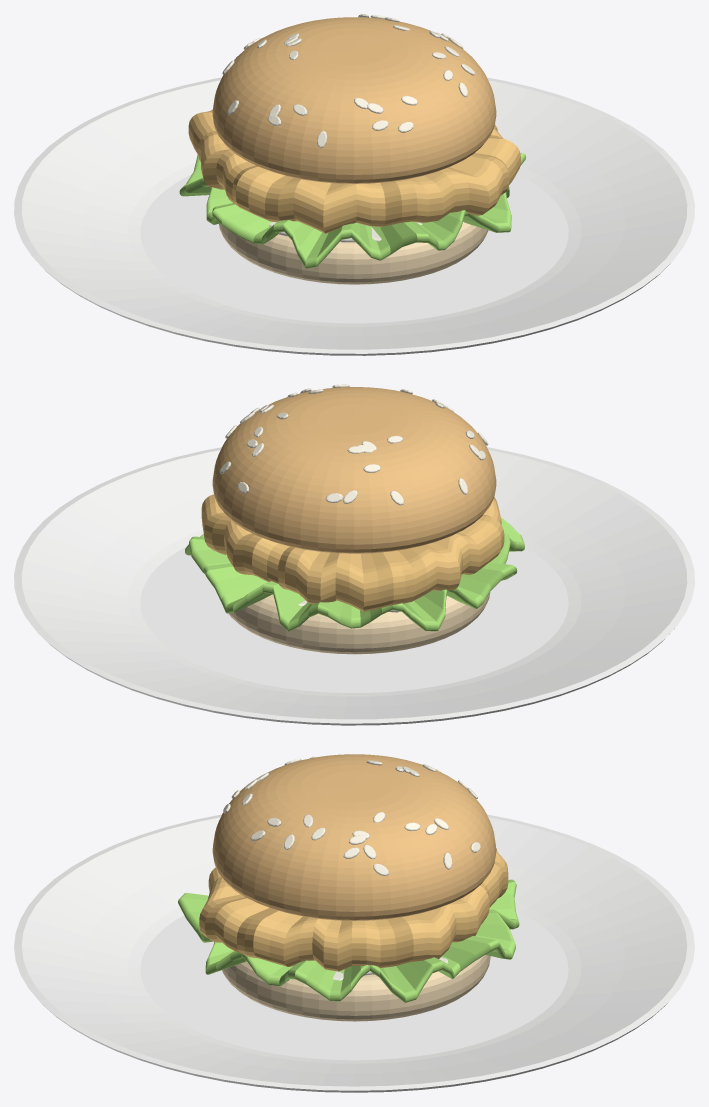
File: crispy_chicken.glb
The picture shows the model from 3 angles, top to bottom: view 1: azimuth 30°, elevation 25°; view 2: azimuth 150°, elevation 25°; view 3: azimuth 270°, elevation 25°; orthographic projection.
Visible parts, largest first — view 1: plate, bun_top_0_0, chicken_0_0, lettuce_0_0, bun_bottom_0_0, bun_top_0_1; view 2: plate, bun_top_0_0, chicken_0_0, lettuce_0_0, bun_bottom_0_0, bun_top_0_1; view 3: plate, bun_top_0_0, chicken_0_0, lettuce_0_0, bun_bottom_0_0, bun_top_0_1.
Boxes of the visible parts, <box> form: plate: <box>14,77,694,355</box>; bun_top_0_0: <box>212,17,496,183</box>; chicken_0_0: <box>188,109,520,233</box>; lettuce_0_0: <box>179,153,525,268</box>; bun_bottom_0_0: <box>219,222,488,284</box>; bun_top_0_1: <box>222,14,475,148</box>; plate: <box>14,447,694,725</box>; bun_top_0_0: <box>212,387,496,553</box>; chicken_0_0: <box>201,494,504,611</box>; lettuce_0_0: <box>185,517,524,631</box>; bun_bottom_0_0: <box>228,592,490,654</box>; bun_top_0_1: <box>219,384,488,505</box>; plate: <box>14,814,694,1092</box>; bun_top_0_0: <box>212,754,496,920</box>; chicken_0_0: <box>199,848,508,971</box>; lettuce_0_0: <box>178,879,519,1002</box>; bun_bottom_0_0: <box>222,954,490,1021</box>; bun_top_0_1: <box>223,756,480,875</box>.
Size of the model in its own units: 0.264 by 0.0853 by 0.264.
